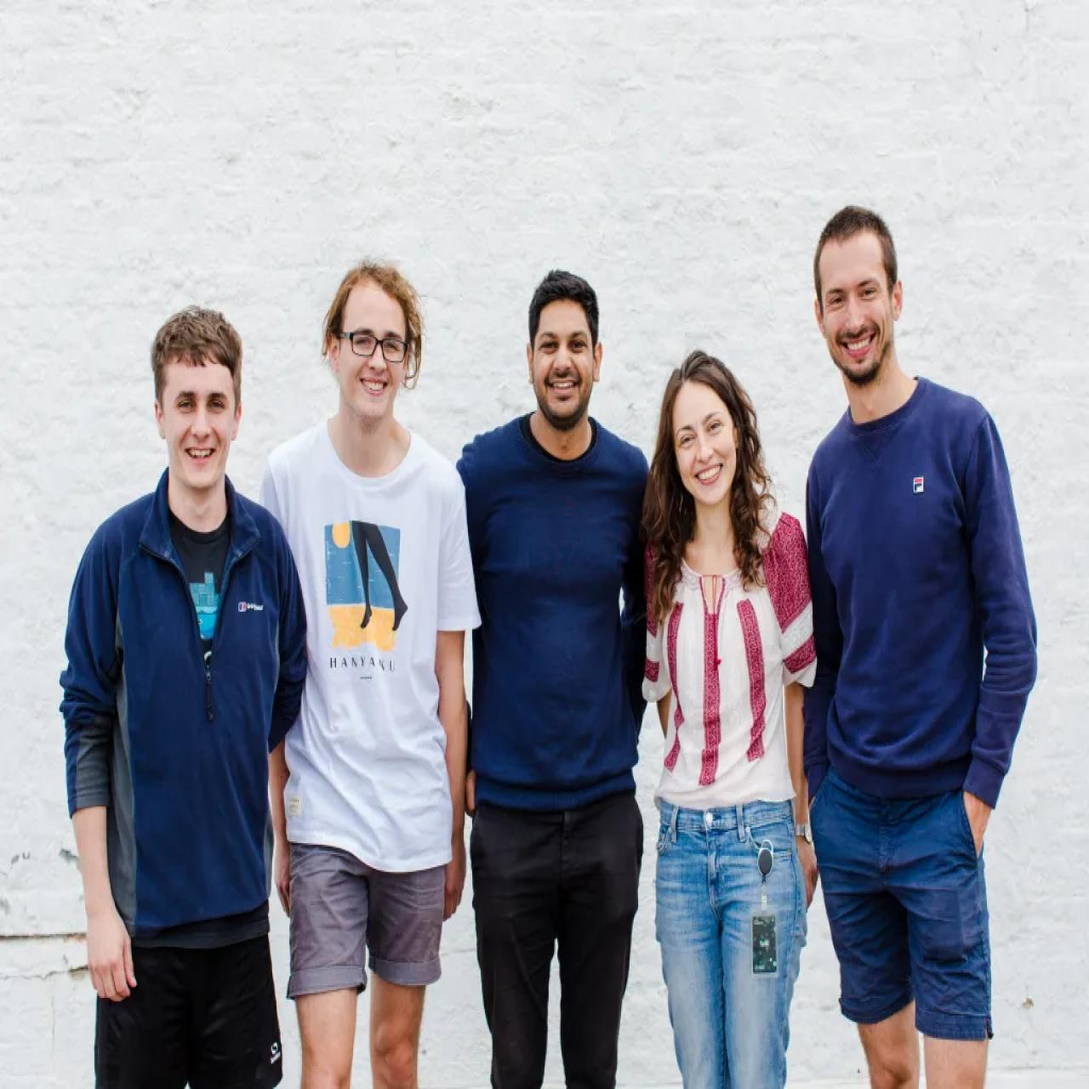NO_Safety_Vest: (93, 496, 277, 964), (284, 427, 454, 874), (819, 392, 976, 800), (481, 423, 626, 800), (649, 499, 797, 821)
Person: (790, 172, 1056, 1089), (53, 288, 319, 1089), (247, 228, 475, 1089), (450, 233, 675, 1087), (638, 328, 813, 1089)
